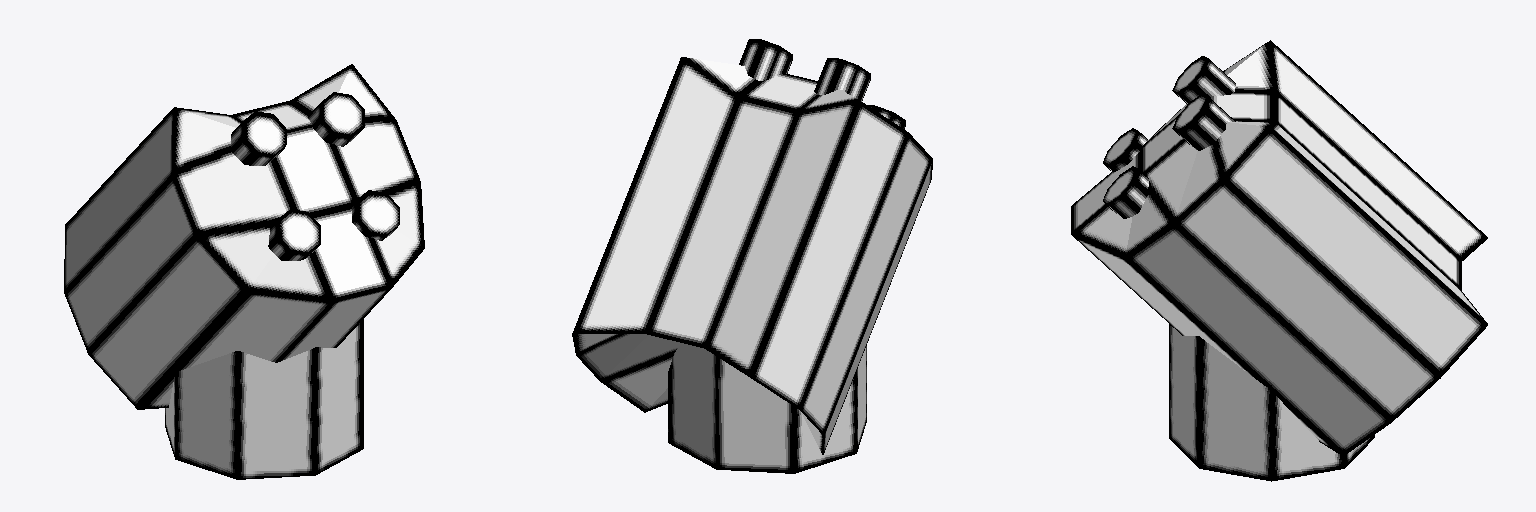
The picture shows the model from 3 angles: view 1: azimuth 30°, elevation 25°; view 2: azimuth 150°, elevation 25°; view 3: azimuth 270°, elevation 25°; orthographic projection.
Parts seen in each view (by area): view 1: Box12; view 2: Box12; view 3: Box12.
Boxes of the visible parts, <box> form: Box12: <box>64,64,424,479</box>; Box12: <box>572,39,932,473</box>; Box12: <box>1071,40,1487,481</box>.
Size of the model in its own units: 1.26 by 1.93 by 2.03.
1 materials, 1 textured.